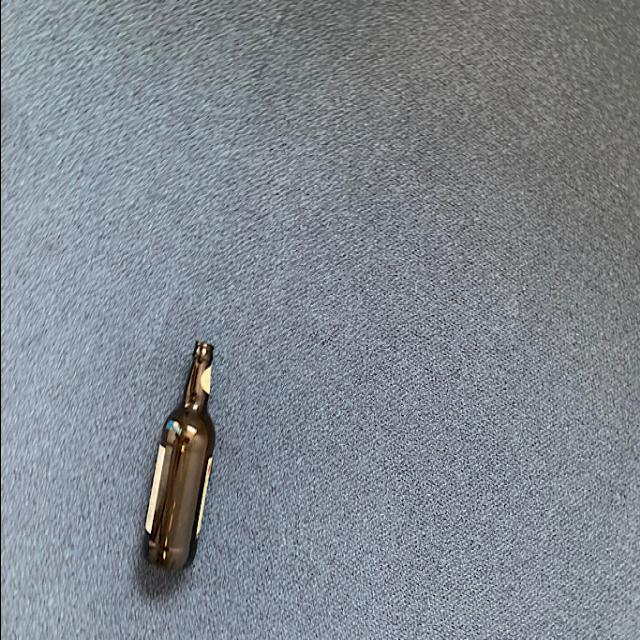litter: (137, 342, 217, 578)
